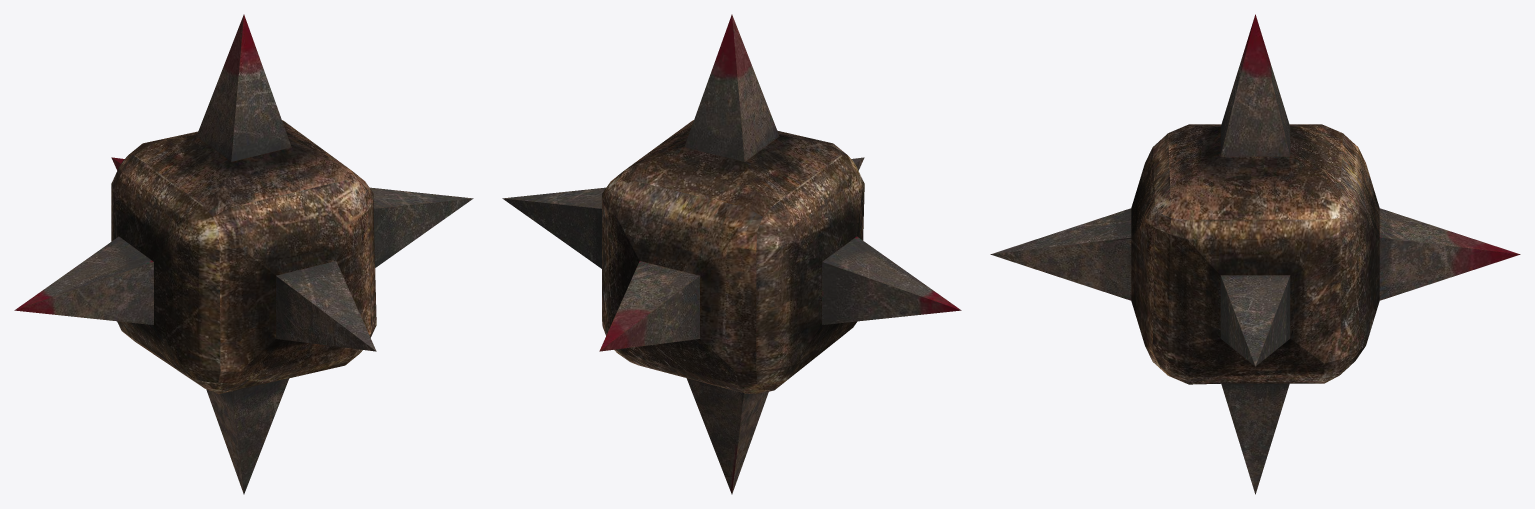
File: pinchepinchoso 1.fbx
3 renders of one model, left to right at view 1: azimuth 30°, elevation 25°; view 2: azimuth 150°, elevation 25°; view 3: azimuth 270°, elevation 25°, orthographic.
Visible parts, largest first — view 1: Cube; view 2: Cube; view 3: Cube.
Boxes of the visible parts, bbox=[...] form: Cube: bbox=[14, 14, 473, 494]; Cube: bbox=[502, 14, 961, 494]; Cube: bbox=[990, 14, 1520, 494].
Bounding box in the file's own units: 539 × 539 × 539.
1 material, 1 textured.
